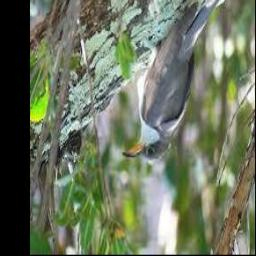Cuckoo: (123, 0, 226, 164)
